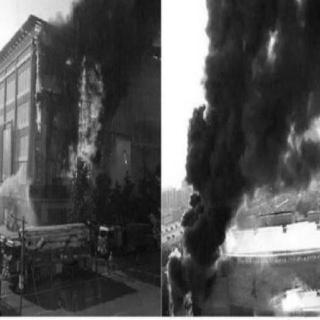Fire: (164, 235, 204, 318)
